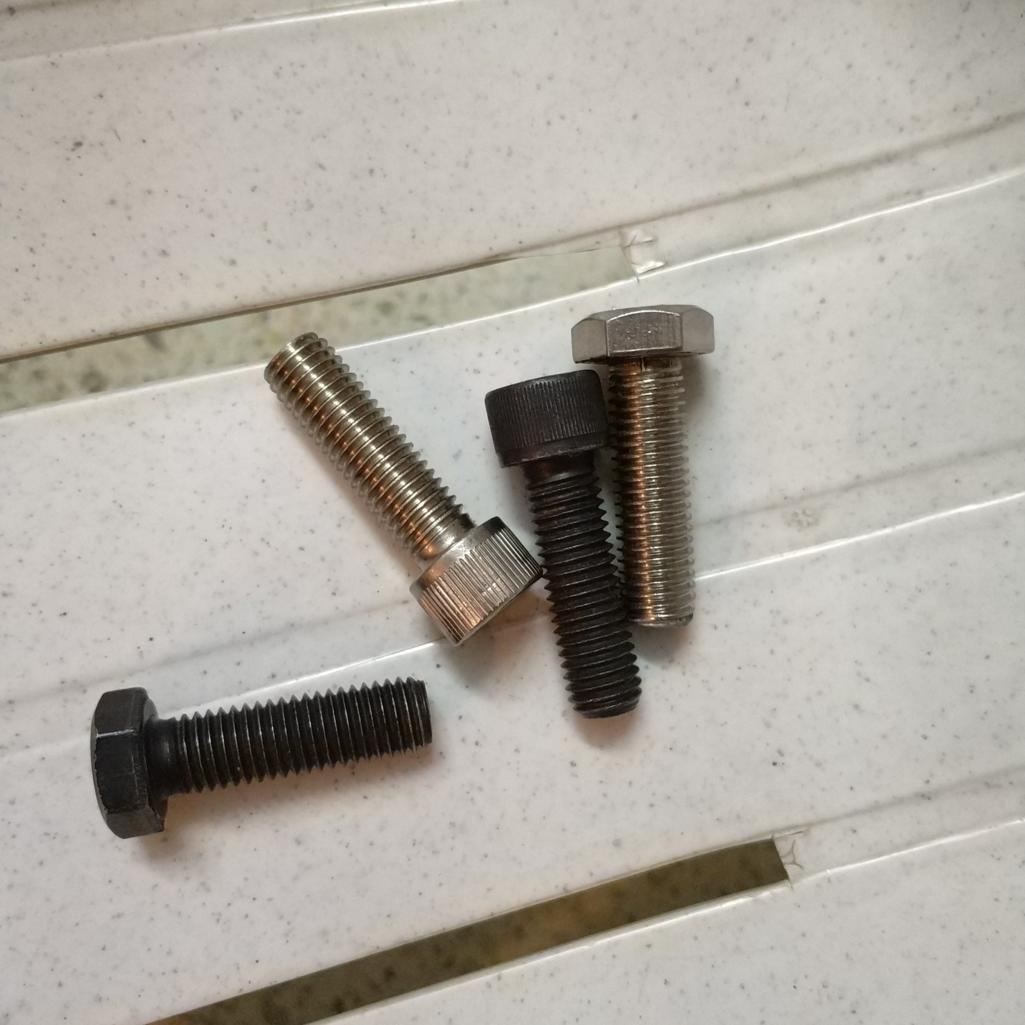screwtype1black: (470, 351, 643, 723)
screwtype1silver: (253, 330, 542, 652)
screwtype2black: (67, 677, 453, 843)
screwtype2silver: (555, 296, 731, 633)
